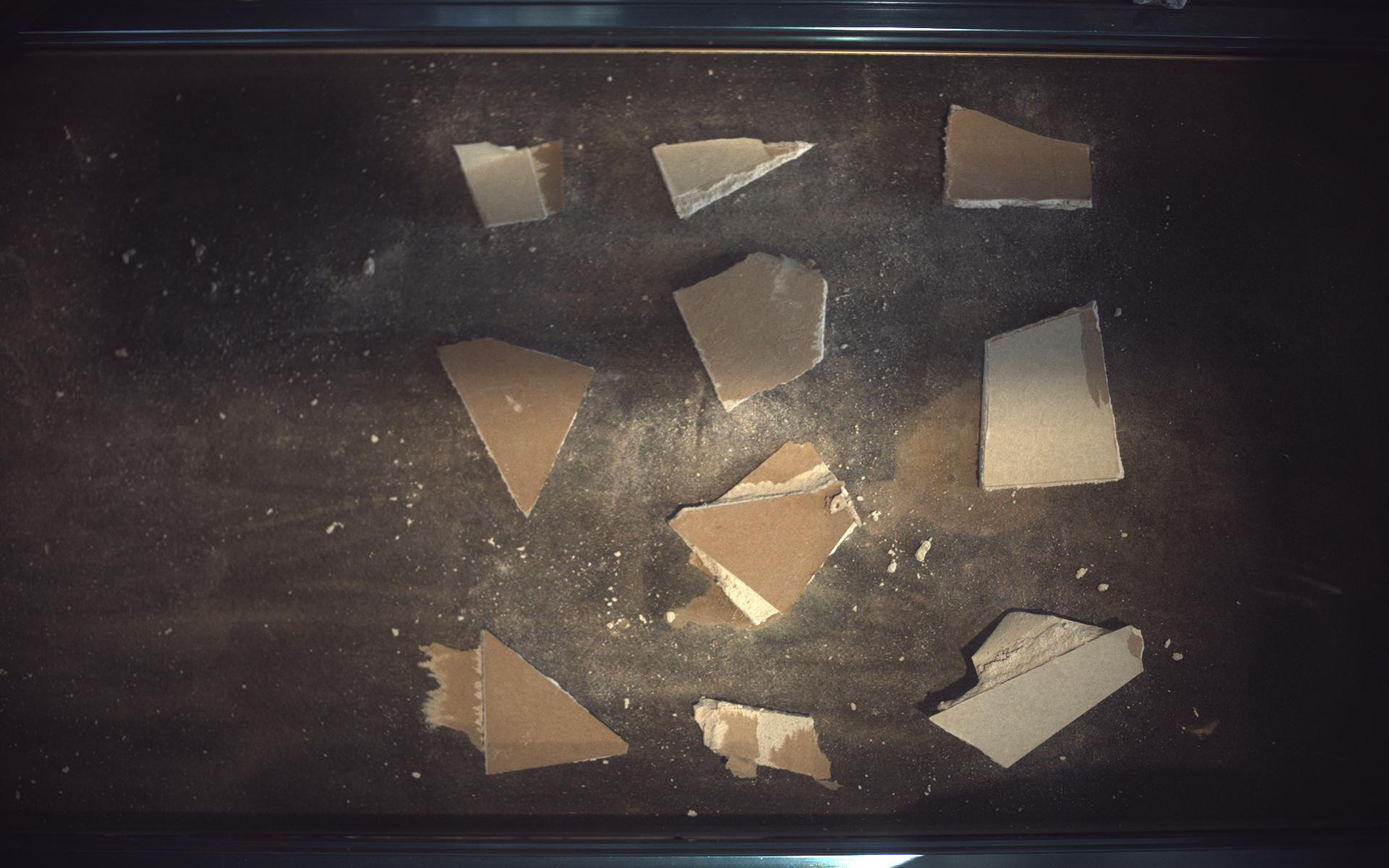gypsum_board: (667, 443, 862, 629), (932, 612, 1147, 769), (419, 631, 629, 776), (438, 338, 595, 516), (982, 300, 1126, 490), (674, 252, 829, 411), (946, 104, 1095, 209), (695, 699, 840, 791), (654, 137, 815, 218), (454, 139, 564, 227)
